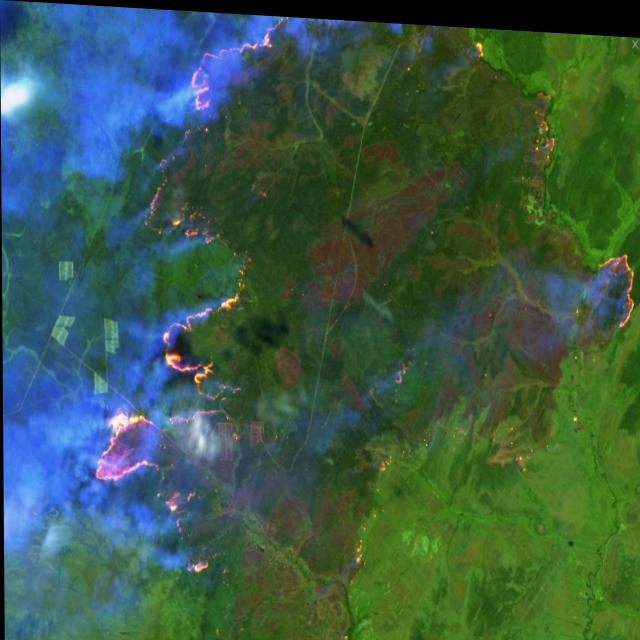fire: (88, 4, 309, 590), (587, 229, 640, 319)
